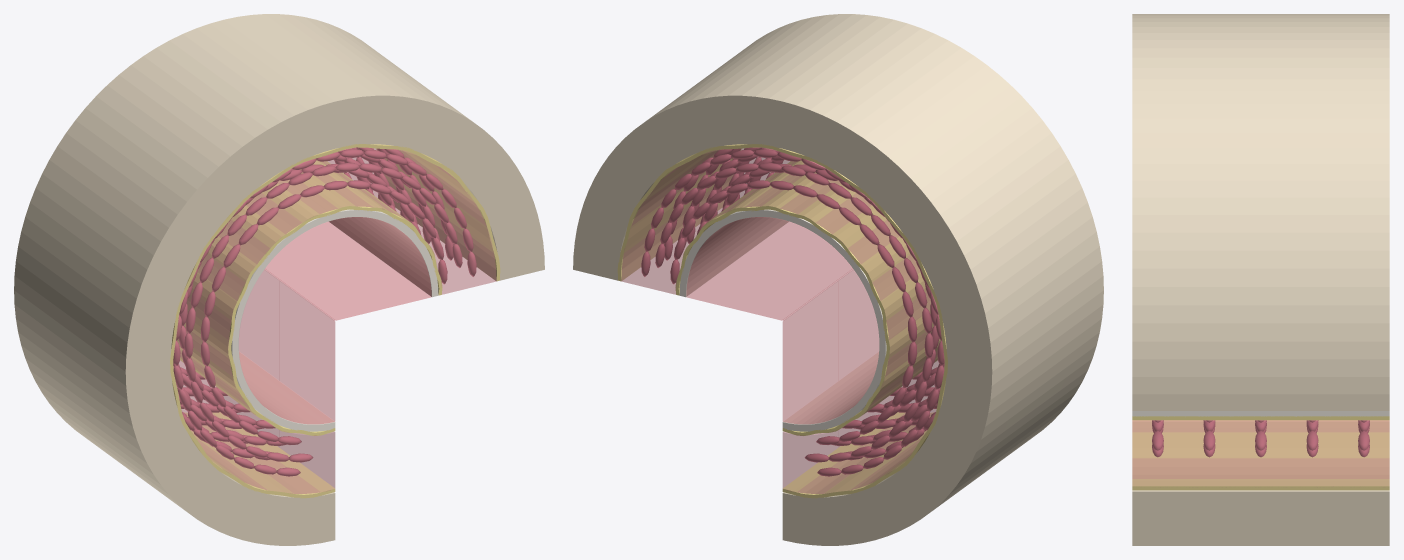
Rendered from vessel-wall-concept.glb.
The picture shows the model from 3 angles, left to right: view 1: azimuth 30°, elevation 25°; view 2: azimuth 150°, elevation 25°; view 3: azimuth 270°, elevation 25°; orthographic projection. The views are drawn at different scales.
Visible parts, largest first — view 1: tunica_adventitia, tunica_media, lumen, smooth_muscle_cells, internal_elastic_lamina, external_elastic_lamina, tunica_intima; view 2: tunica_adventitia, tunica_media, lumen, smooth_muscle_cells, internal_elastic_lamina, external_elastic_lamina, tunica_intima; view 3: tunica_adventitia, tunica_media, external_elastic_lamina, smooth_muscle_cells, tunica_intima, internal_elastic_lamina.
Part boxes in pixels (box(x1,y1,x2,y2)): tunica_adventitia: box(14, 14, 544, 545); tunica_media: box(173, 147, 496, 493); lumen: box(239, 217, 431, 423); smooth_muscle_cells: box(173, 147, 476, 476); internal_elastic_lamina: box(177, 160, 442, 435); external_elastic_lamina: box(170, 144, 500, 498); tunica_intima: box(231, 209, 438, 431); tunica_adventitia: box(573, 14, 1103, 545); tunica_media: box(621, 147, 944, 493); lumen: box(686, 217, 878, 423); smooth_muscle_cells: box(641, 147, 944, 476); internal_elastic_lamina: box(675, 160, 940, 435); external_elastic_lamina: box(617, 144, 947, 498); tunica_intima: box(679, 209, 886, 431); tunica_adventitia: box(1132, 14, 1389, 545); tunica_media: box(1132, 420, 1389, 487); external_elastic_lamina: box(1132, 420, 1389, 490); smooth_muscle_cells: box(1152, 420, 1369, 457); tunica_intima: box(1132, 411, 1389, 416); internal_elastic_lamina: box(1132, 416, 1389, 420).
Size of the model in its own units: 1.3 by 1.3 by 0.6.
